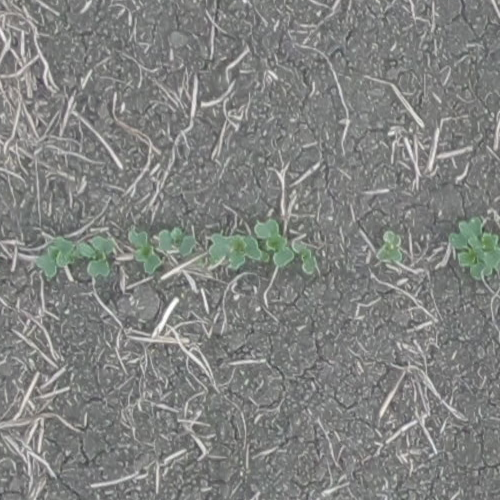plant: (209, 220, 319, 275), (129, 228, 196, 273), (452, 218, 499, 277), (80, 235, 114, 279), (37, 237, 75, 276), (377, 232, 405, 261)
